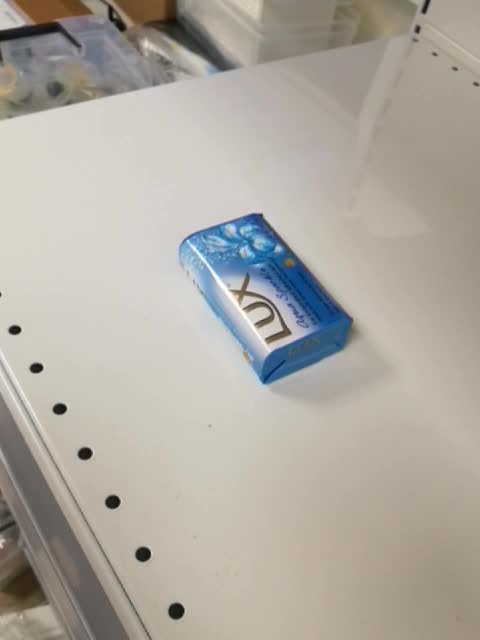soap: (177, 212, 355, 385)
